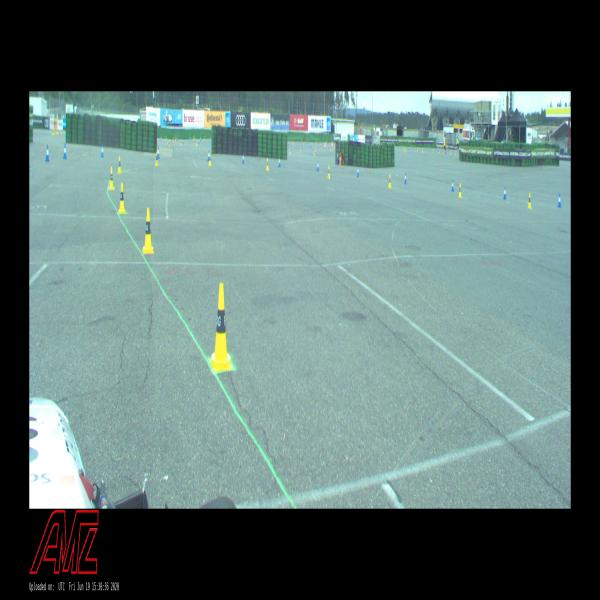blue_cone: (45, 145, 50, 161), (63, 143, 67, 158), (503, 186, 507, 199), (100, 144, 104, 157), (558, 194, 561, 206), (404, 172, 407, 183), (452, 179, 454, 191), (278, 156, 280, 167), (317, 160, 319, 171), (158, 147, 160, 158), (242, 152, 244, 163), (357, 166, 359, 176), (208, 150, 209, 161)
yellow_cone: (209, 283, 233, 370), (142, 208, 154, 254), (118, 183, 126, 213), (108, 167, 114, 190), (528, 192, 532, 208), (458, 183, 462, 198), (118, 157, 121, 174), (155, 152, 158, 166), (388, 175, 391, 188), (266, 158, 269, 170), (327, 166, 330, 178), (209, 153, 211, 165)
